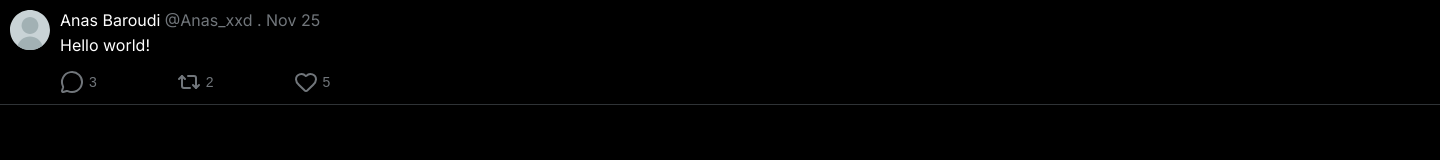
Test: Post › should decrease the repost count when undoing a repost
This screenshot has width=1440, height=160.
Click the button named "Repost": (195, 82) x1=177 y1=70 x2=214 y2=94
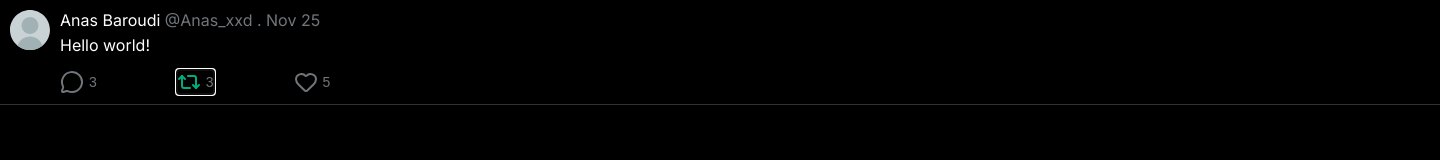
Click the button named "Repost": (195, 82) x1=177 y1=70 x2=214 y2=94
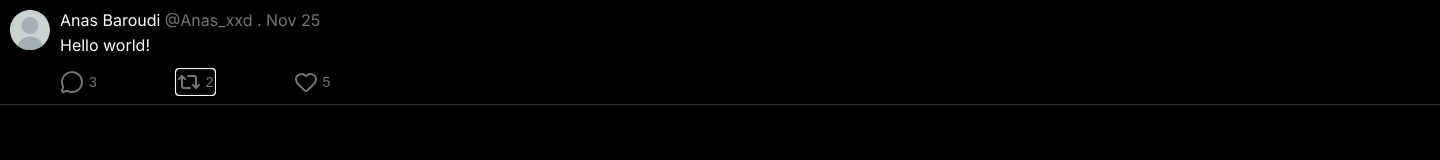
Now the button named "Repost" reads "2", box x1=177 y1=70 x2=214 y2=94
